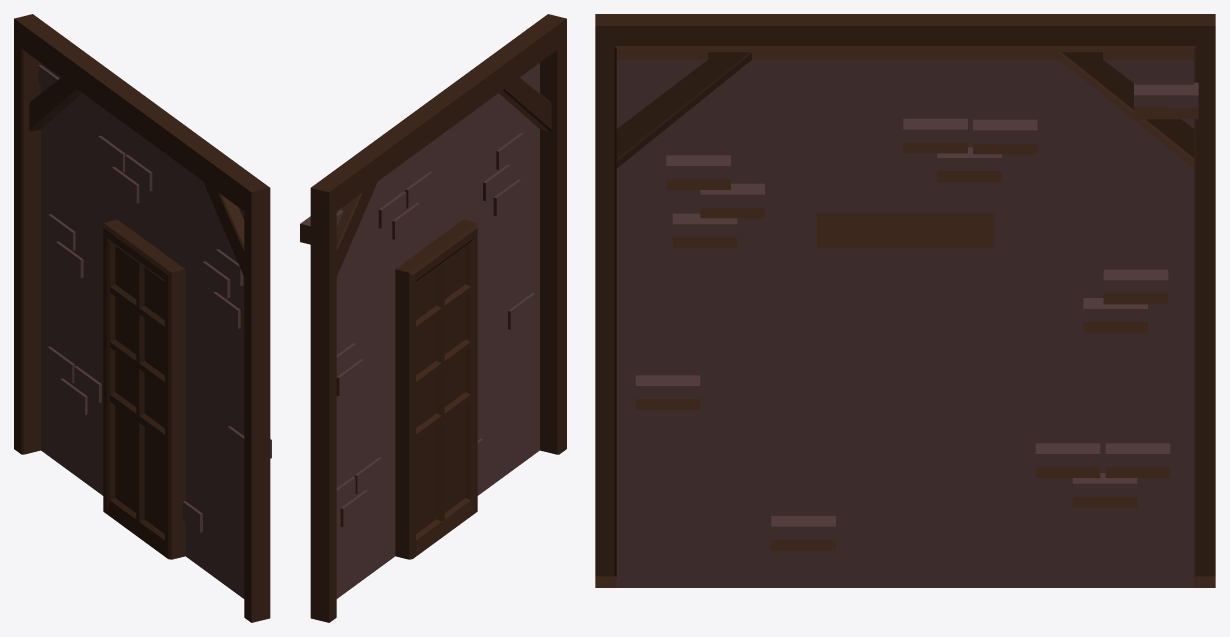
3 renders of one model, left to right at view 1: azimuth 30°, elevation 25°; view 2: azimuth 150°, elevation 25°; view 3: azimuth 270°, elevation 25°, orthographic. The views are drawn at different scales.
Parts seen in each view (by area): view 1: Box016; view 2: Box016; view 3: Box016.
Boxes of the visible parts, left/top/right/bottom form: Box016: left=14, top=14, right=271, bottom=622; Box016: left=300, top=14, right=566, bottom=622; Box016: left=595, top=14, right=1215, bottom=587.
Bounding box in the file's own units: 0.5358 × 3 × 3.
